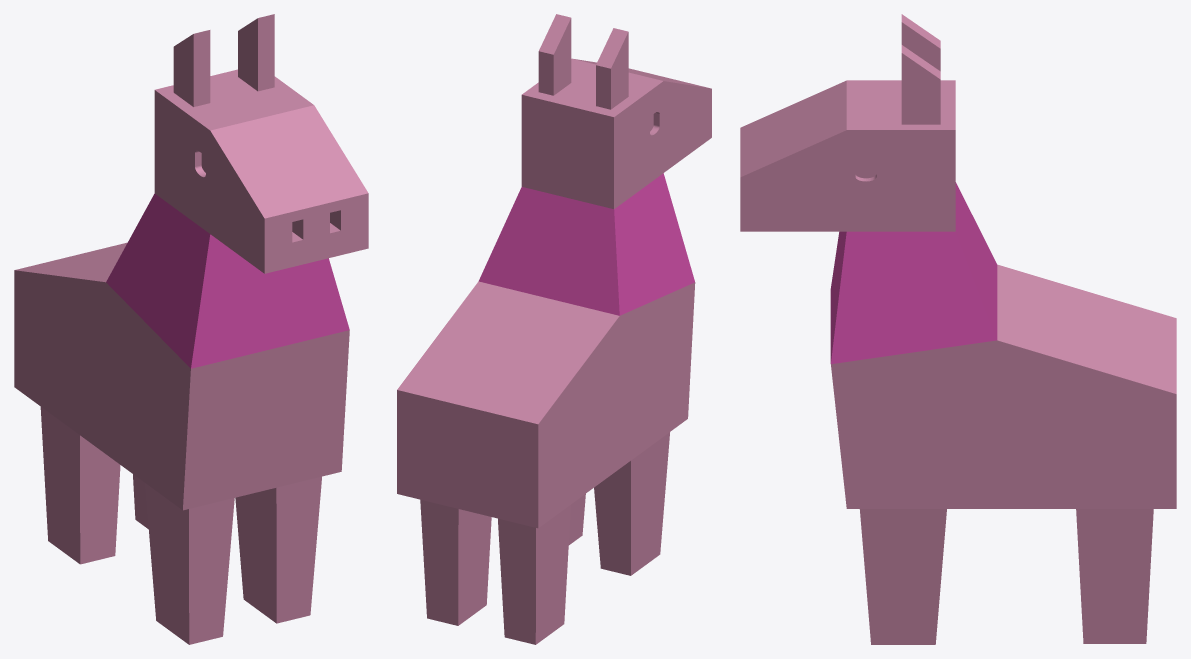
Rendered from pinata.fbx.
The picture shows the model from 3 angles, left to right: view 1: azimuth 30°, elevation 25°; view 2: azimuth 150°, elevation 25°; view 3: azimuth 270°, elevation 25°; orthographic projection. The views are drawn at different scales.
Parts seen in each view (by area): view 1: Cube, Cube.001; view 2: Cube, Cube.001; view 3: Cube, Cube.001.
Boxes of the visible parts, x1,y1,x2,y2 form: Cube: (14,14,368,644); Cube.001: (106,193,349,368); Cube: (397,14,711,644); Cube.001: (478,173,694,315); Cube: (740,14,1176,644); Cube.001: (830,182,997,364).
Size of the model in its own units: 225 by 806 by 547.
